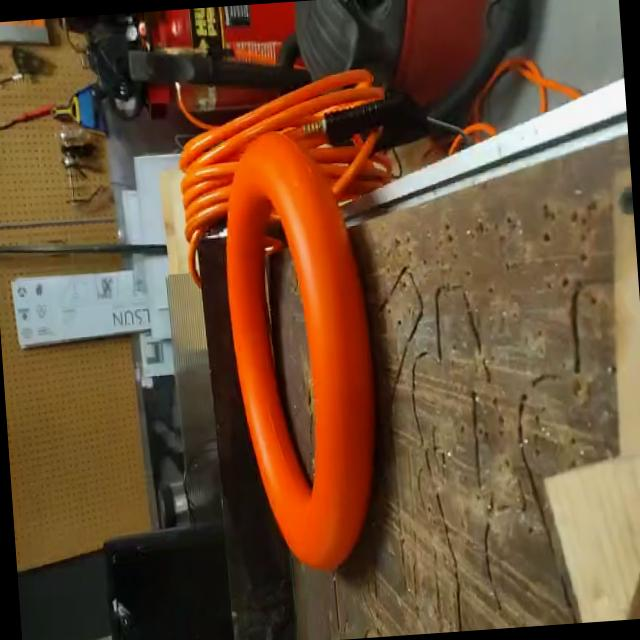note: (215, 128, 394, 574)
